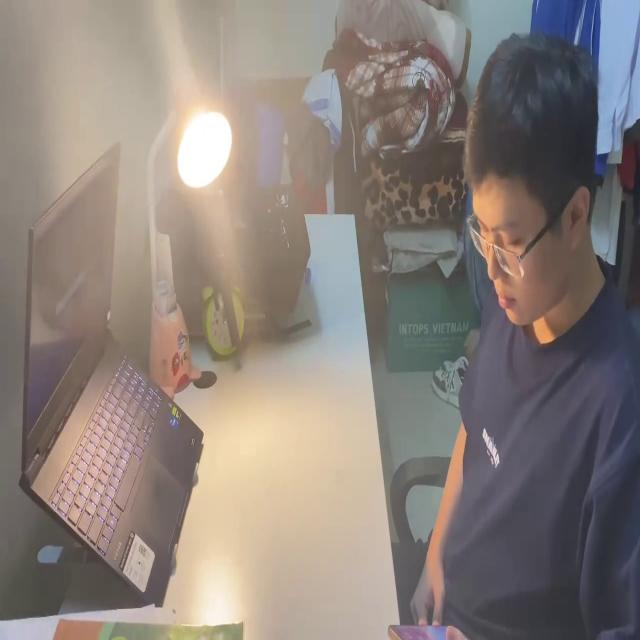book: (1, 604, 245, 640)
laptop: (20, 140, 206, 601)
phone: (384, 619, 474, 640)
student: (389, 26, 640, 640)
